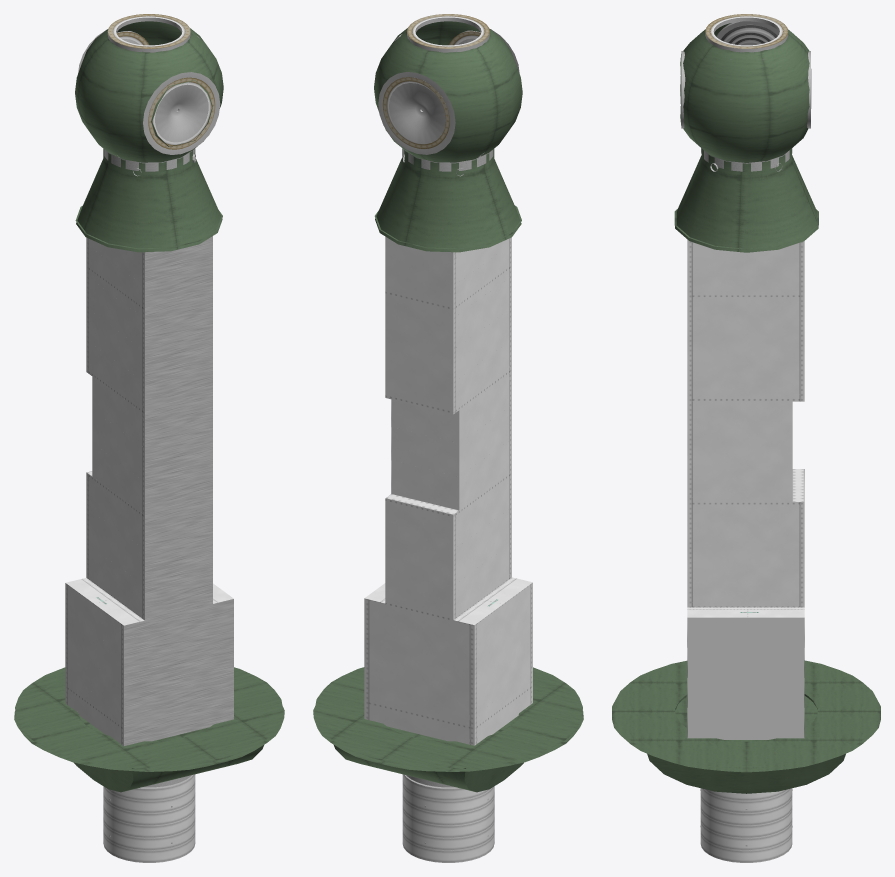
Rendered from ISS_FGB_INT.FBX.
3 views of the same model, side by side, from view 1: azimuth 30°, elevation 25°; view 2: azimuth 150°, elevation 25°; view 3: azimuth 270°, elevation 25° (orthographic).
Parts seen in each view (by area): view 1: FGB; view 2: FGB; view 3: FGB.
Part boxes in pixels (left/top/right/bottom): FGB: left=14, top=14, right=284, bottom=862; FGB: left=313, top=14, right=583, bottom=862; FGB: left=612, top=14, right=880, bottom=862.
Size of the model in its own units: 3.82 by 12.61 by 3.78.
Materials: 16 (13 with a texture image).
